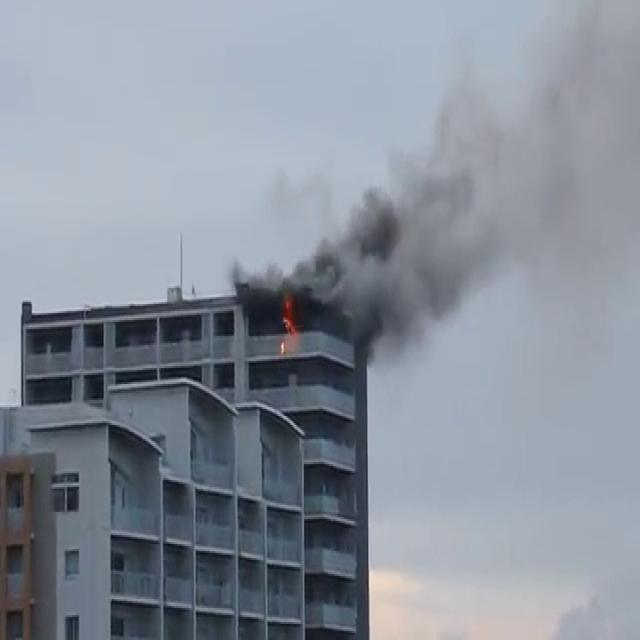Fire: (277, 294, 301, 351)
Smoke: (291, 6, 640, 374)
